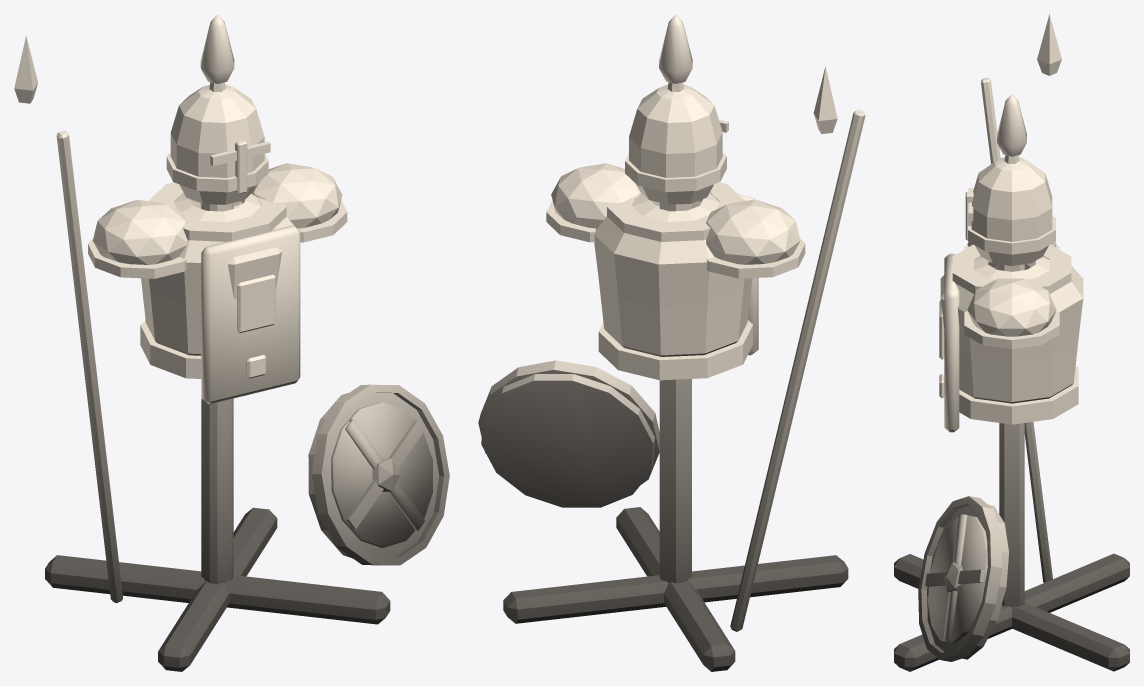
File: SM_VK_Prop_ArmorStand.fbx
The picture shows the model from 3 angles, left to right: view 1: azimuth 30°, elevation 25°; view 2: azimuth 150°, elevation 25°; view 3: azimuth 270°, elevation 25°; orthographic projection. The views are drawn at different scales.
Parts seen in each view (by area): view 1: SM_VK_Prop_ArmorStand.001; view 2: SM_VK_Prop_ArmorStand.001; view 3: SM_VK_Prop_ArmorStand.001.
Part boxes in pixels (box(x1,y1,x2,y2)): SM_VK_Prop_ArmorStand.001: box(14, 14, 449, 671); SM_VK_Prop_ArmorStand.001: box(478, 14, 865, 671); SM_VK_Prop_ArmorStand.001: box(894, 14, 1129, 671).
Size of the model in its own units: 1.64 by 2.36 by 0.9424.
